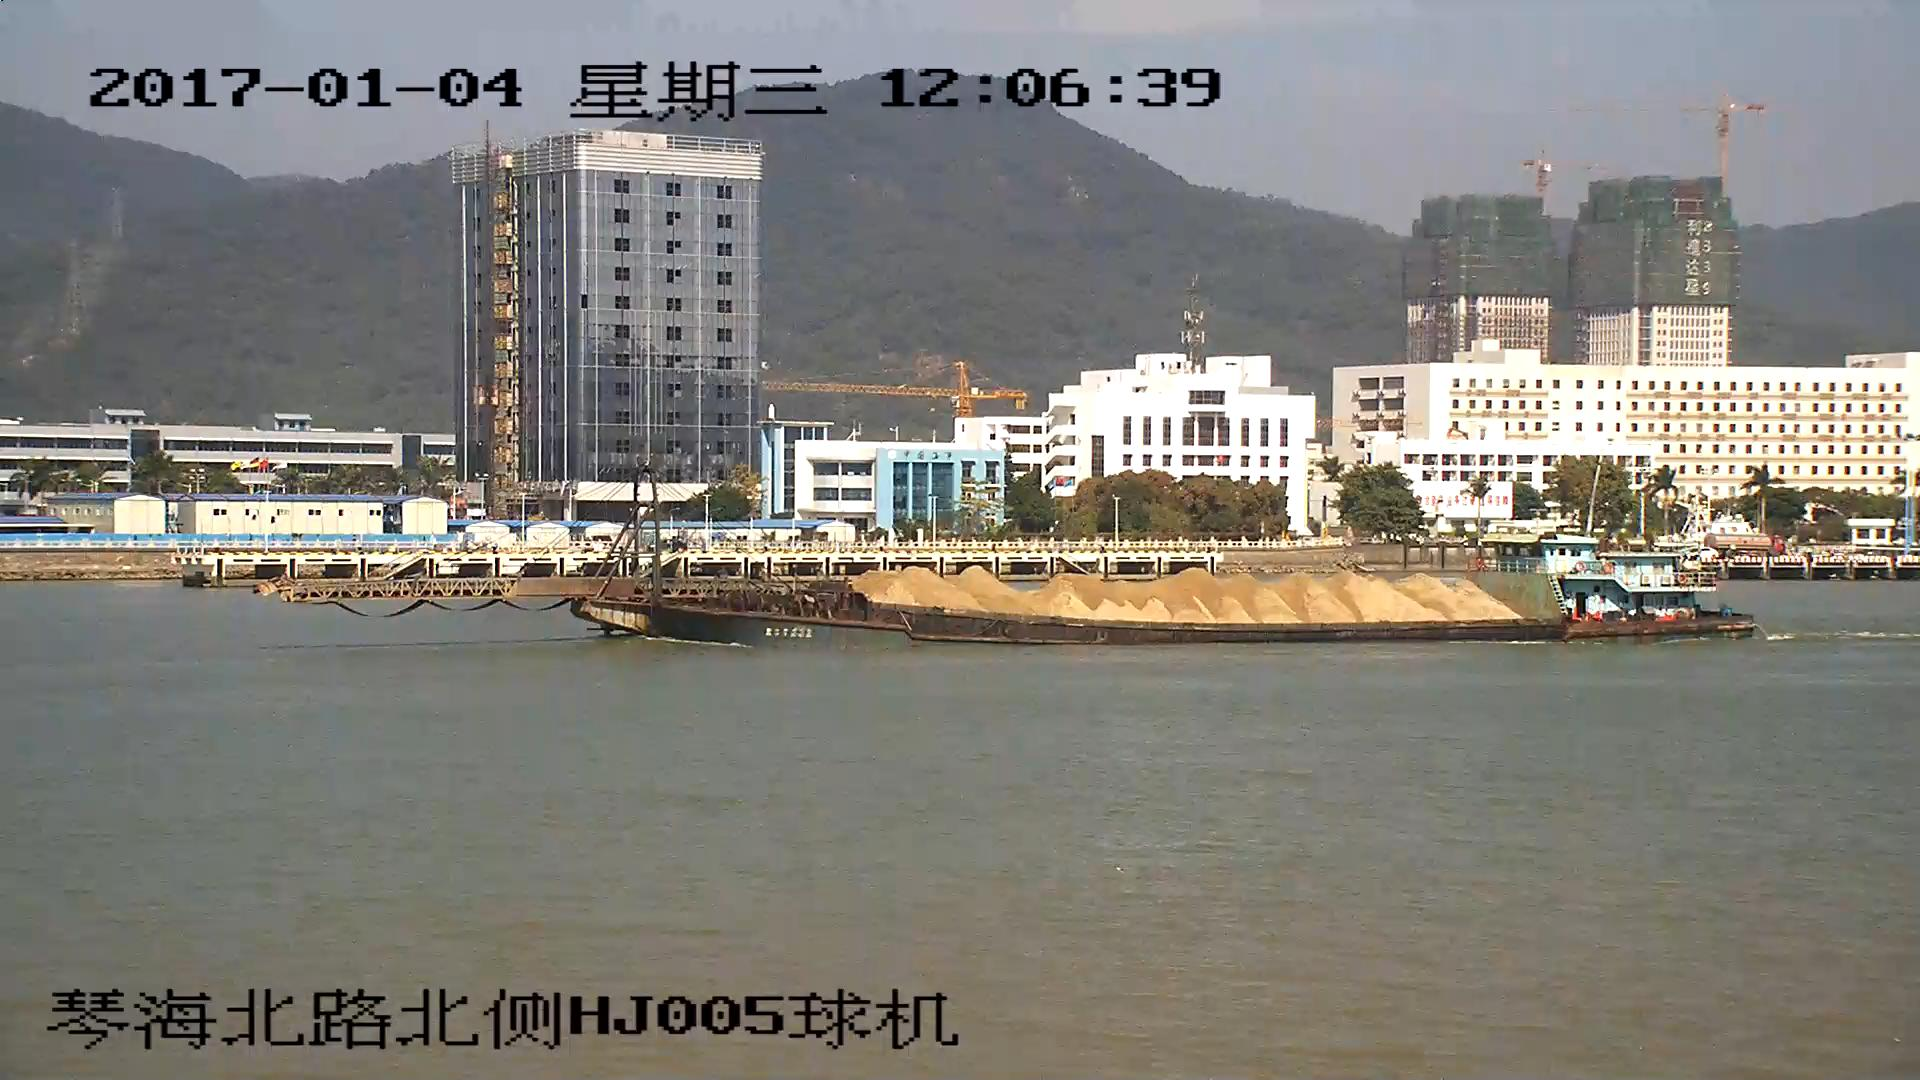ore carrier: (271, 469, 1757, 640)
